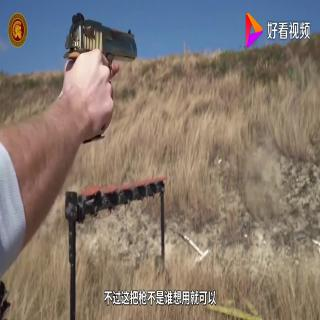gun: (74, 21, 140, 104)
